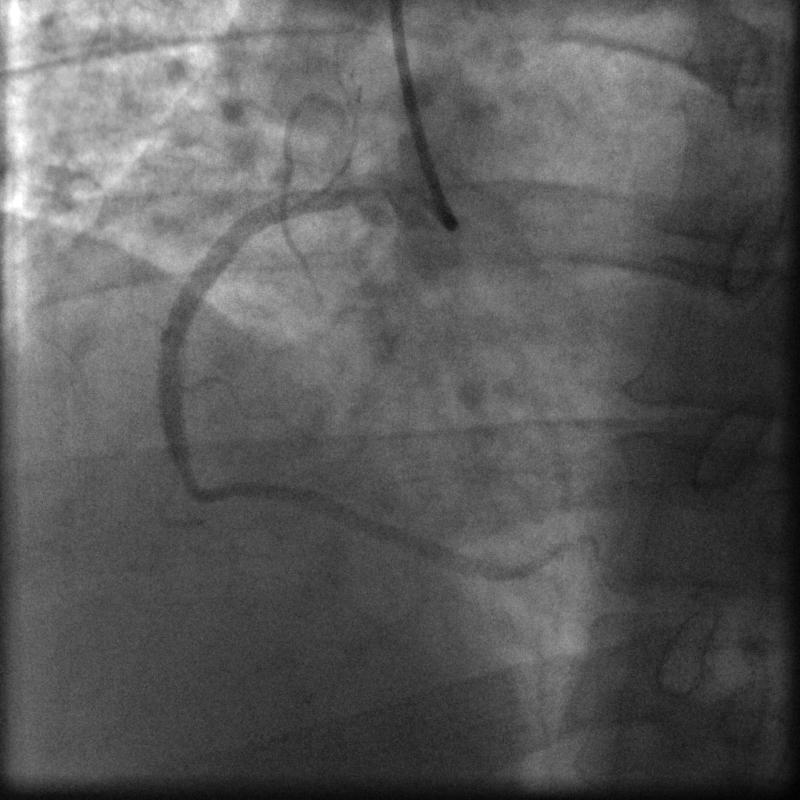Stenosis: (169, 435, 203, 498)
